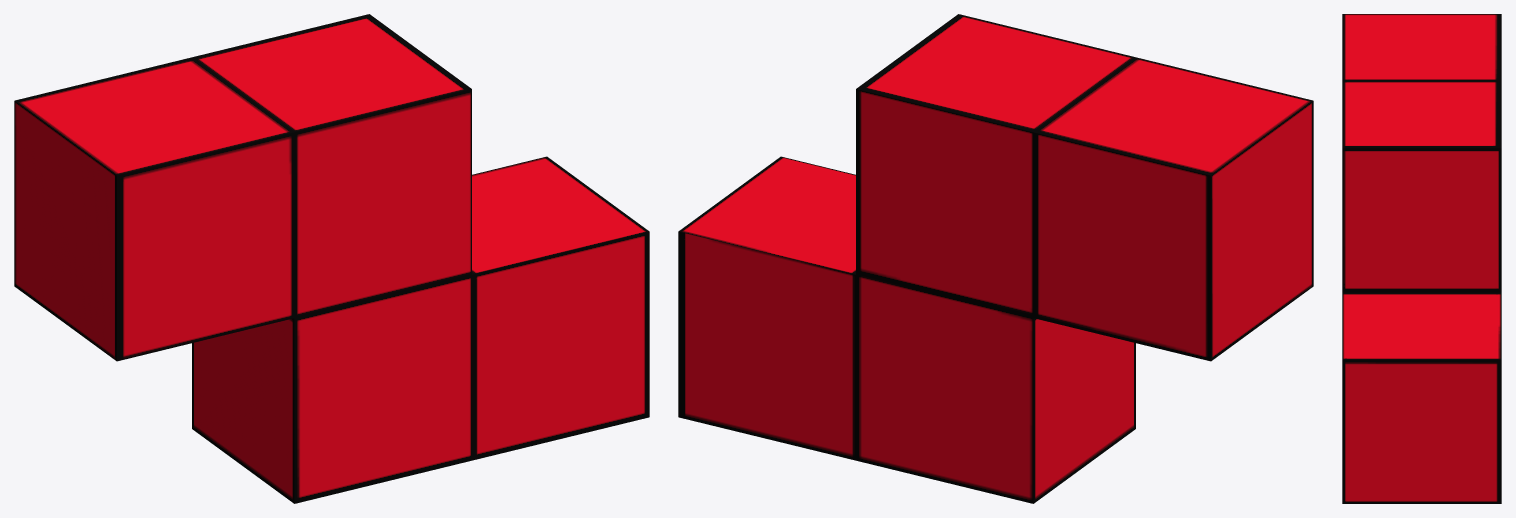
File: TetrisBlock.fbx
The picture shows the model from 3 angles, left to right: view 1: azimuth 30°, elevation 25°; view 2: azimuth 150°, elevation 25°; view 3: azimuth 270°, elevation 25°; orthographic projection. The views are drawn at different scales.
Visible parts, largest first — view 1: TetrisBlock; view 2: TetrisBlock; view 3: TetrisBlock.
Boxes of the visible parts, bbox=[...] form: TetrisBlock: bbox=[14, 14, 649, 503]; TetrisBlock: bbox=[678, 14, 1313, 503]; TetrisBlock: bbox=[1342, 14, 1501, 503].
Size of what is drawn, in the model's own units: 75 by 50 by 25.
